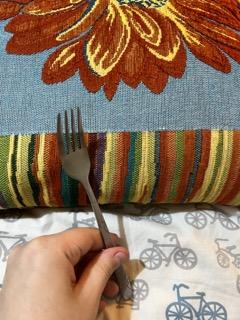fork: (54, 105, 137, 303)
